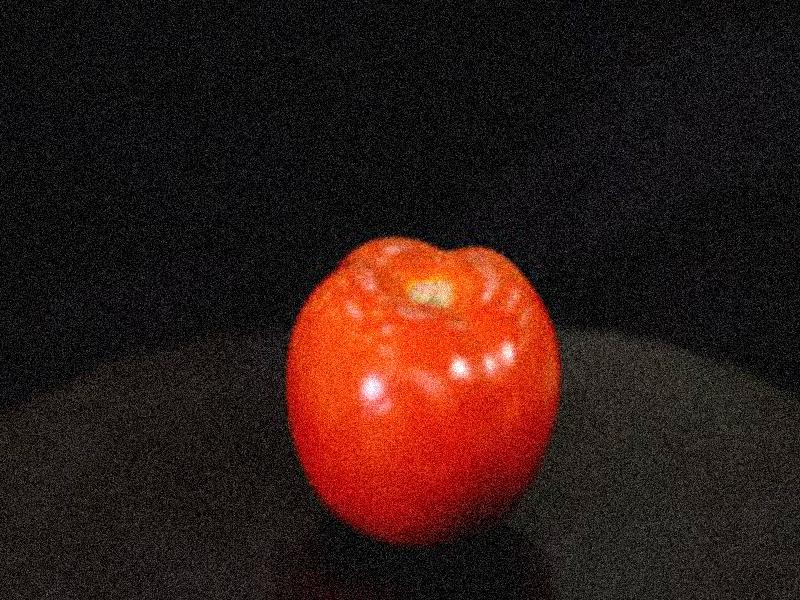Tomato: (282, 236, 559, 539)
